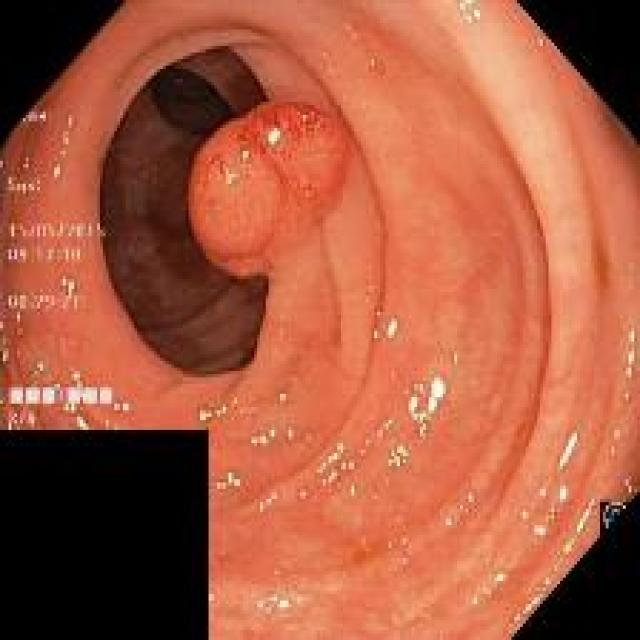Polyps: (189, 103, 348, 277)
